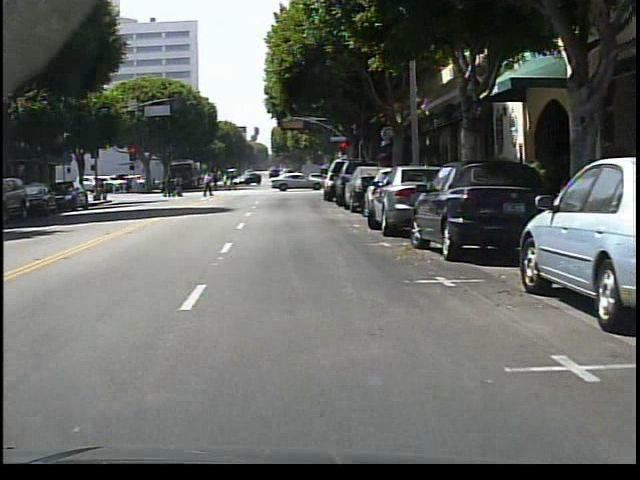person: (197, 169, 217, 199)
